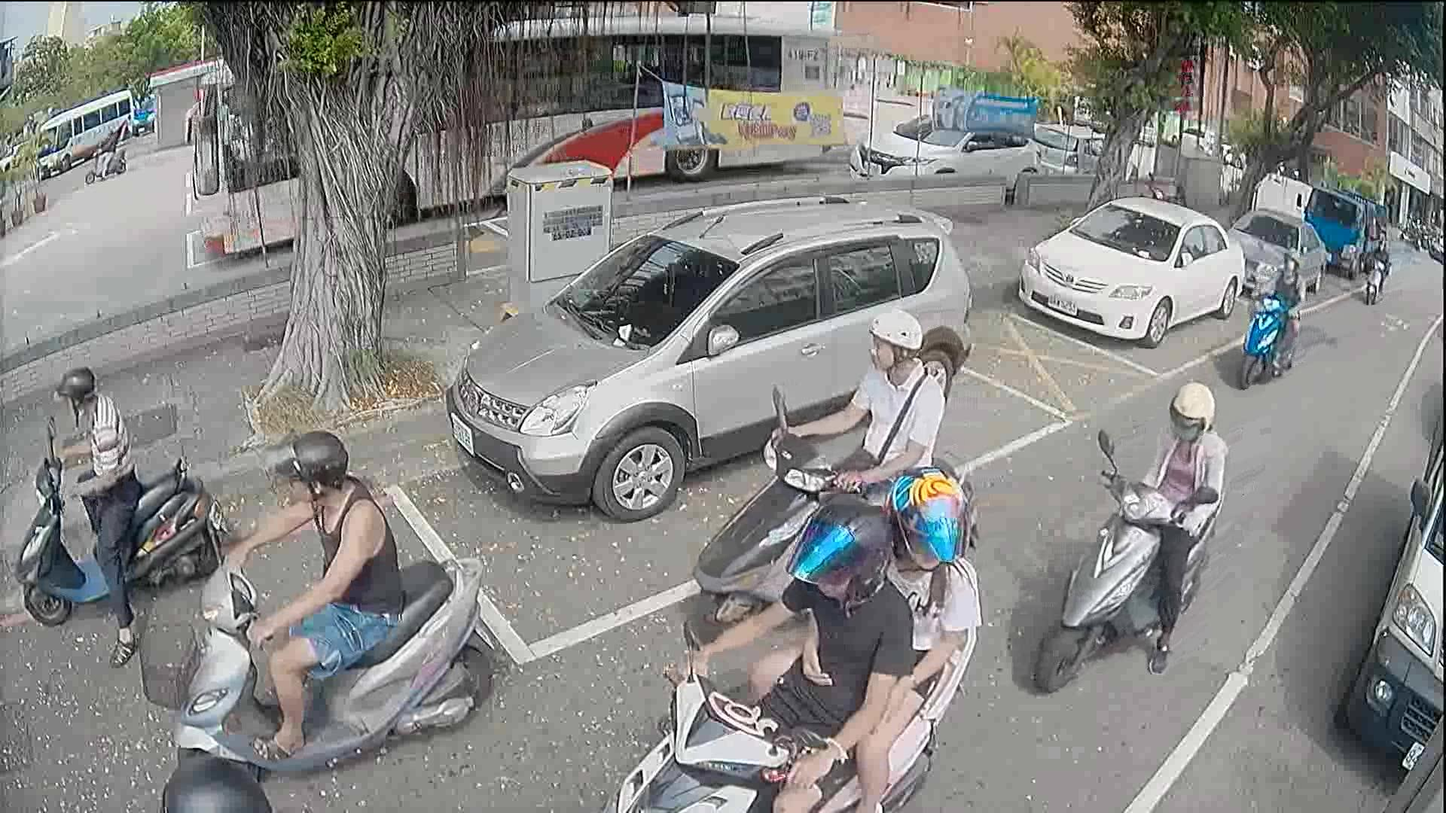person: (756, 451, 981, 812), (657, 498, 911, 812), (214, 423, 403, 769), (767, 312, 941, 499), (1121, 378, 1228, 671), (42, 355, 141, 661), (1245, 242, 1300, 379), (160, 745, 273, 811), (94, 127, 117, 179), (1372, 235, 1388, 266)
